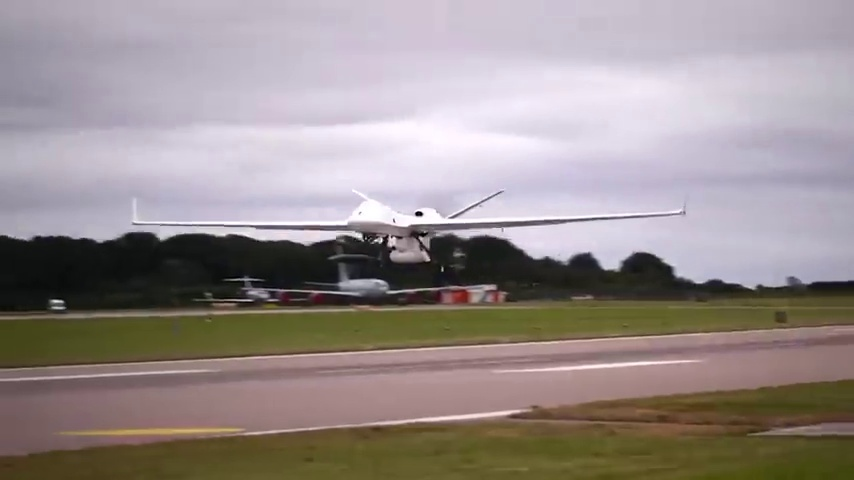military drone: (131, 189, 687, 272)
